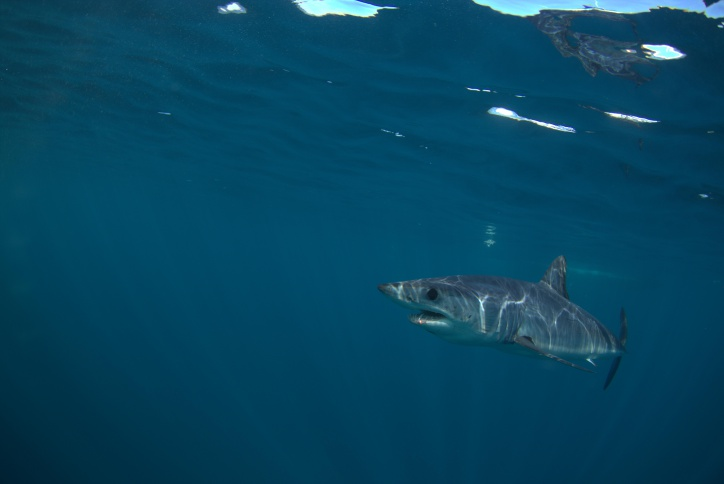Mako: (368, 240, 655, 404)
